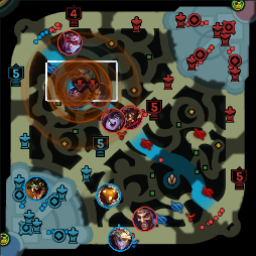bard: (95, 183, 121, 209)
draven: (132, 205, 157, 233)
ezreal: (106, 227, 132, 253)
irelia: (65, 87, 88, 108)
lulu: (100, 107, 126, 132)
nidalee: (88, 84, 110, 106)
renekton: (23, 176, 47, 200)
vayne: (56, 29, 82, 55)
viktor: (117, 104, 143, 129)
